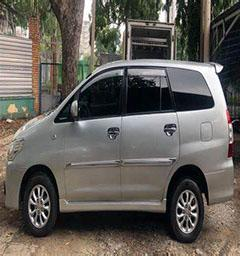car: (4, 40, 240, 252)
